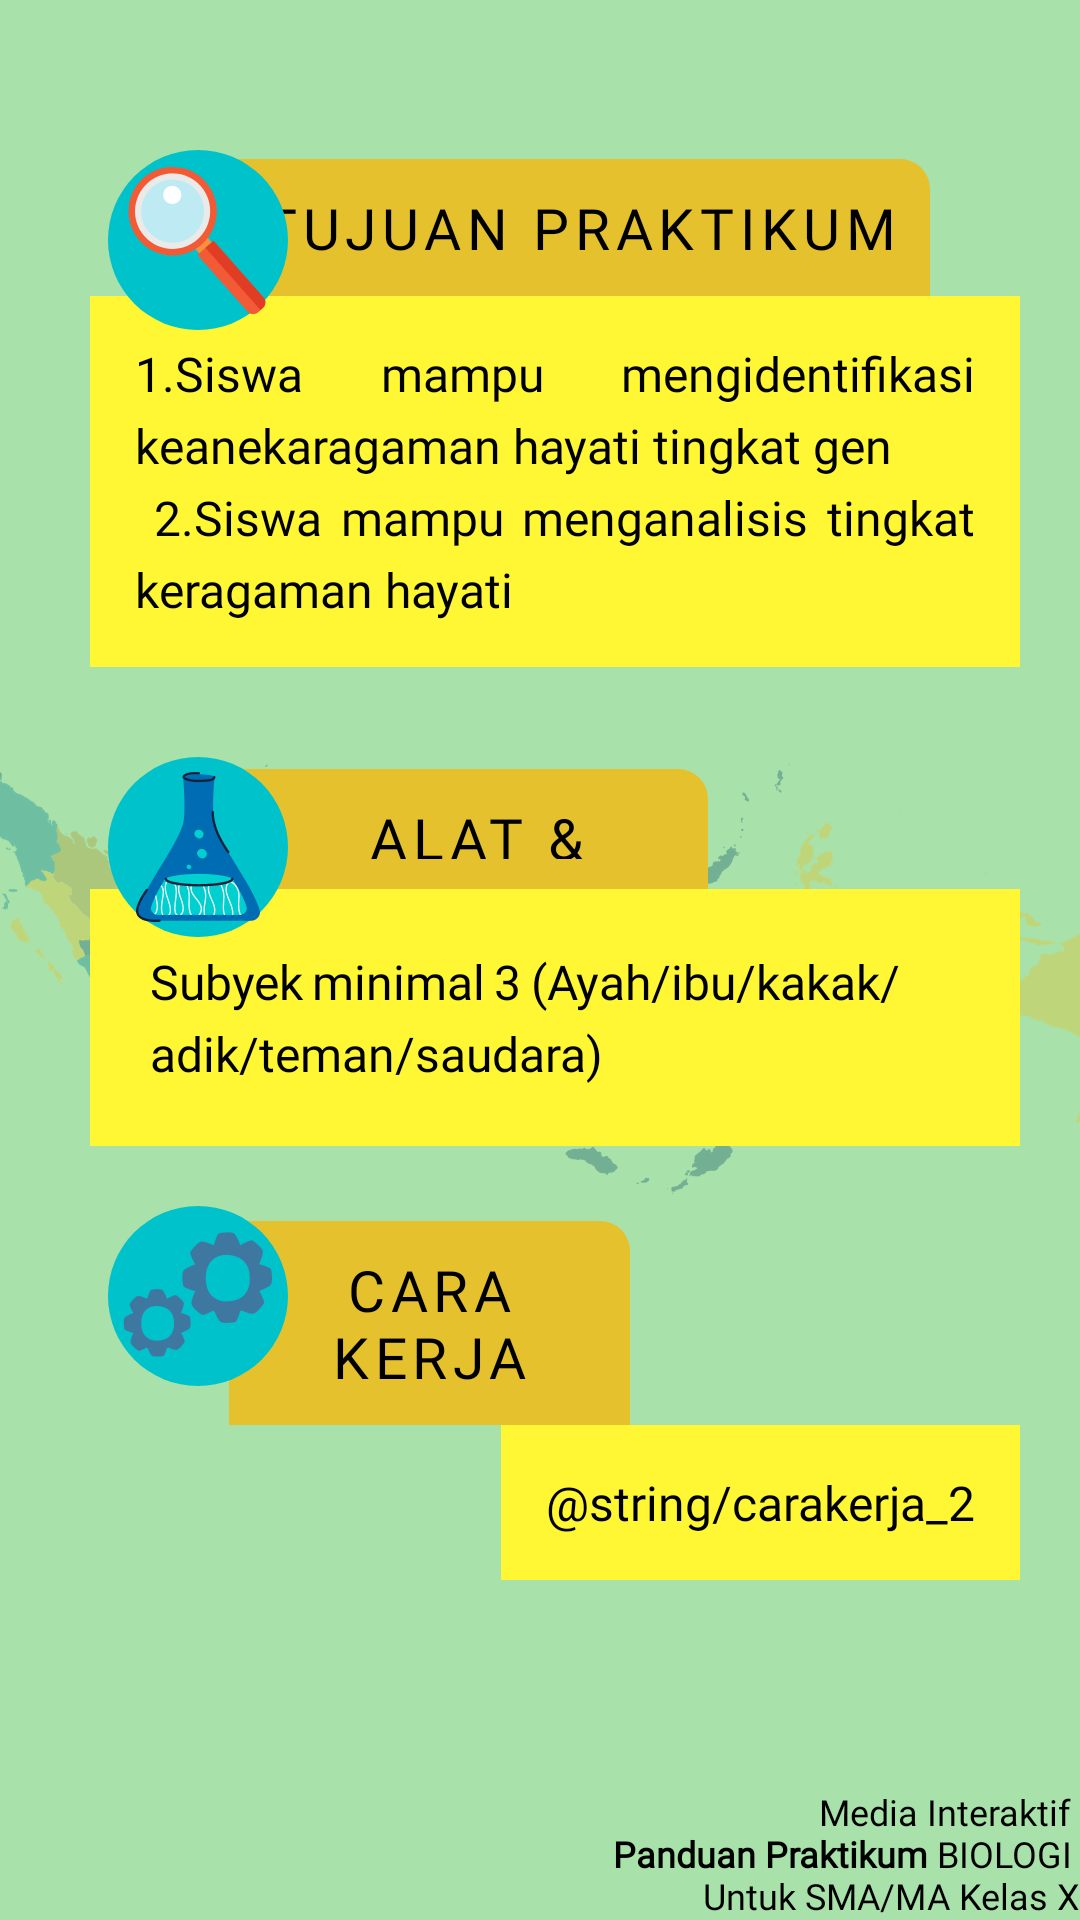

Point at icon controls on the screen. Image size 1080x1920, points as (x=x, y=y).
alatdanbahan: (x=198, y=847)
kacapembesar: (x=198, y=240)
